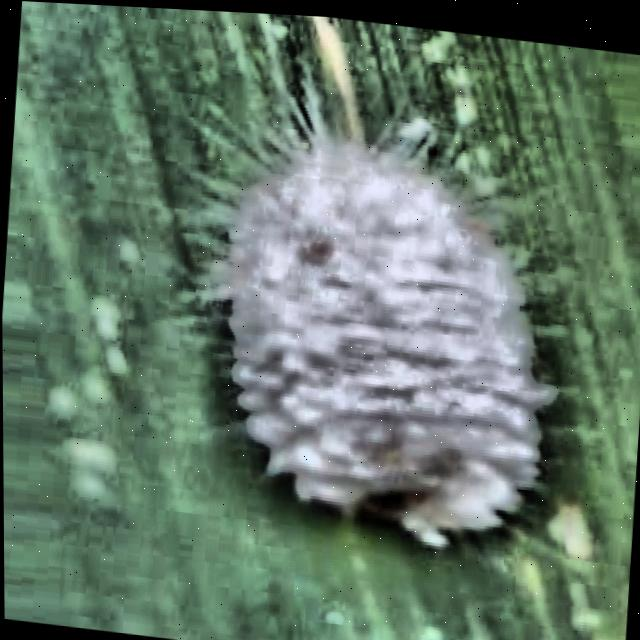Mealy-bug: (153, 7, 626, 640)
